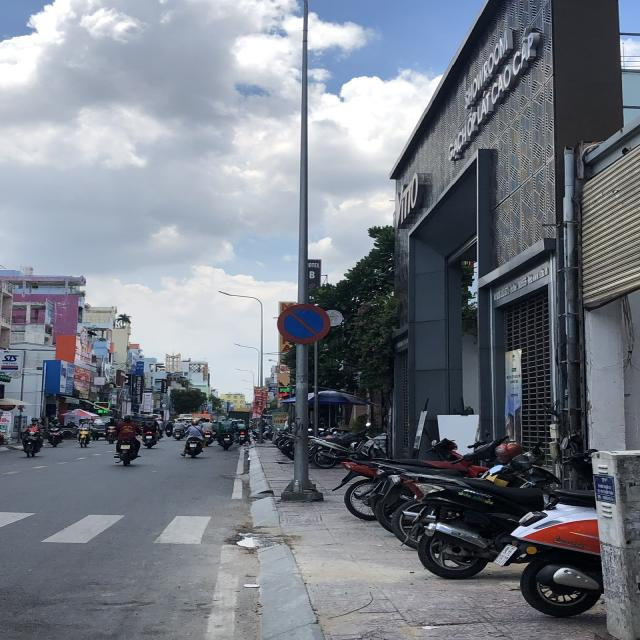Bien bao cam do xe: (273, 300, 337, 344)
